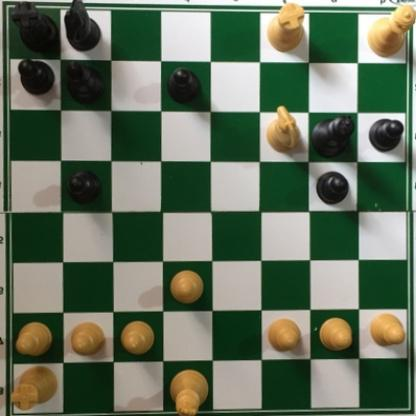black-bishop: (63, 58, 108, 104)
black-king: (312, 112, 357, 157)
black-knight: (63, 1, 102, 55)
black-pawn: (16, 58, 57, 96), (367, 116, 405, 154), (167, 66, 201, 107), (315, 169, 350, 207), (67, 169, 102, 205)
black-rook: (12, 1, 61, 55)
white-king: (169, 366, 214, 416)
white-knight: (266, 100, 303, 156)
white-pawn: (316, 314, 354, 355), (17, 319, 55, 359), (70, 318, 107, 358), (169, 268, 205, 307), (368, 313, 408, 348), (120, 319, 156, 355), (268, 319, 303, 354)
white-queen: (364, 2, 415, 56)
white-rook: (10, 361, 63, 412), (268, 1, 311, 54)
